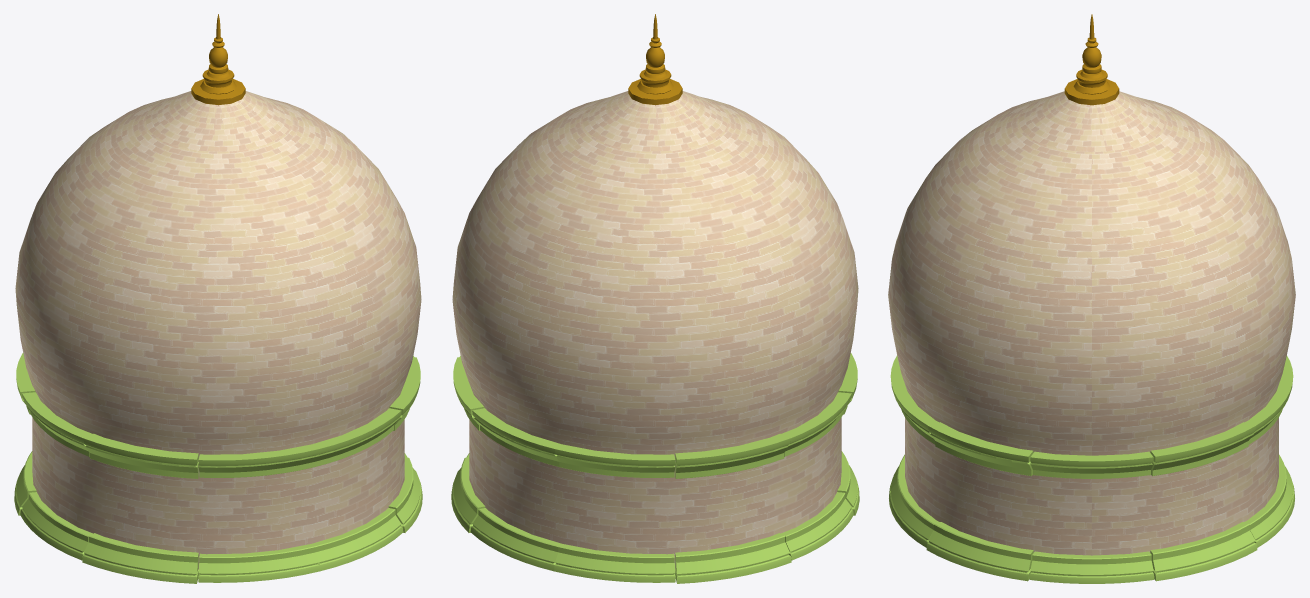
File: SM_dome_01.fbx
The picture shows the model from 3 angles, left to right: view 1: azimuth 30°, elevation 25°; view 2: azimuth 150°, elevation 25°; view 3: azimuth 270°, elevation 25°; orthographic projection.
Visible parts, largest first — view 1: Object32881; view 2: Object32881; view 3: Object32881.
Part boxes in pixels (left/top/right/bottom): Object32881: left=14, top=14, right=422, bottom=583; Object32881: left=451, top=14, right=859, bottom=583; Object32881: left=888, top=14, right=1295, bottom=583.
Size of the model in its own units: 437 by 574 by 437.
